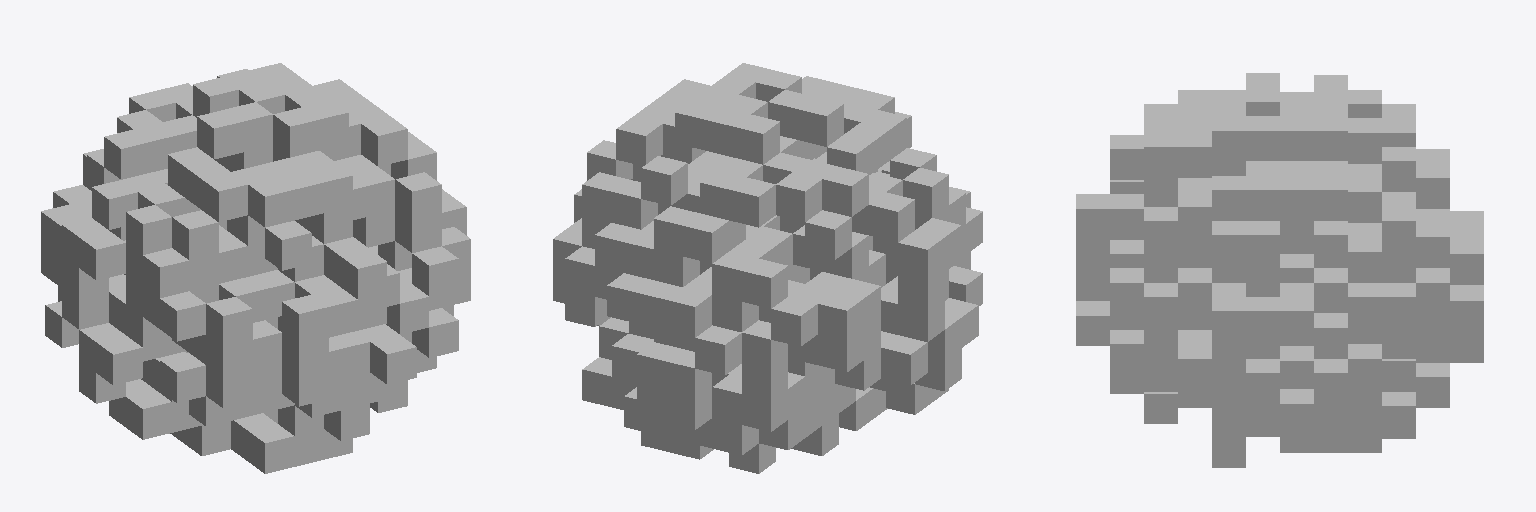
File: 3D Voxel Park-45.obj
The picture shows the model from 3 angles: view 1: azimuth 30°, elevation 25°; view 2: azimuth 150°, elevation 25°; view 3: azimuth 270°, elevation 25°; orthographic projection.
Parts seen in each view (by area): view 1: object 1; view 2: object 1; view 3: object 1.
Boxes of the visible parts, <box> form: object 1: <box>41,63,470,473</box>; object 1: <box>553,63,982,473</box>; object 1: <box>1076,73,1483,467</box>.
Size of the model in its own units: 1.2 by 1 by 1.2.